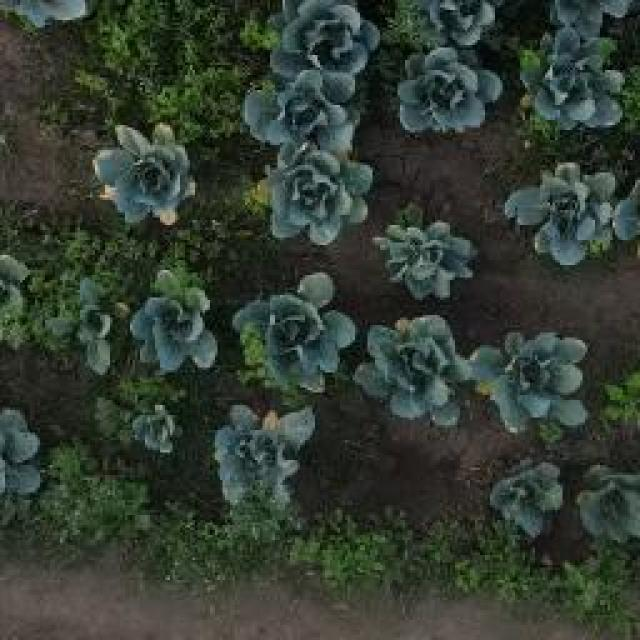cabbage: (227, 266, 355, 392), (361, 313, 478, 431), (499, 158, 623, 267), (79, 117, 202, 226), (258, 130, 368, 248), (477, 329, 588, 435), (221, 405, 317, 521), (224, 75, 372, 148), (525, 27, 630, 124), (388, 48, 503, 133), (252, 0, 378, 75), (130, 271, 223, 372), (378, 219, 474, 301), (486, 458, 568, 538), (65, 280, 125, 374), (580, 460, 640, 542), (403, 0, 501, 50), (134, 396, 182, 454)
